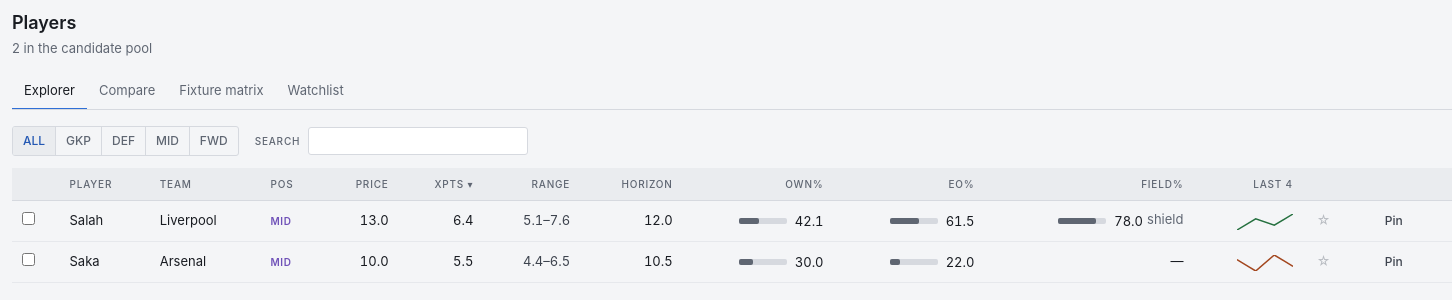
Test: Players hub › still says Loading while the advice request is in flight
Check: the button "Salah" is shown, box [70,211,103,230]
Step 1. Click the tab "Compare" → (127, 92), box [87,73,167,110]
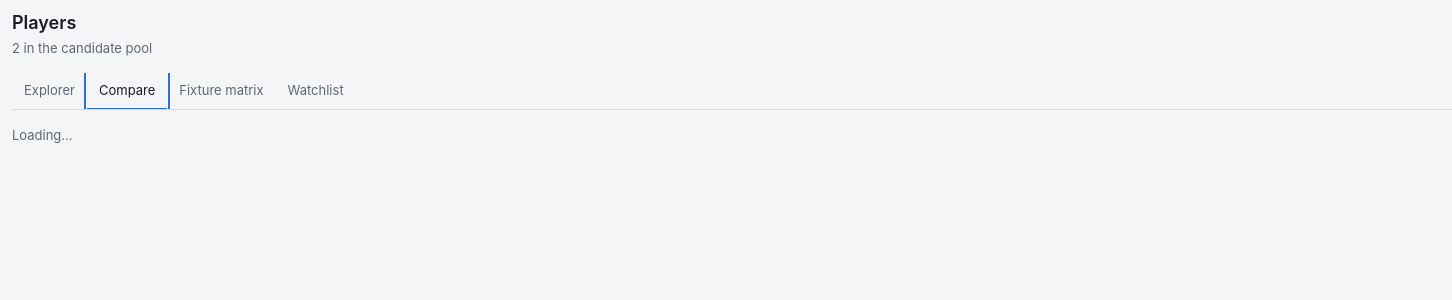
Check: the text "Loading…" is shown, box [12,127,73,143]
